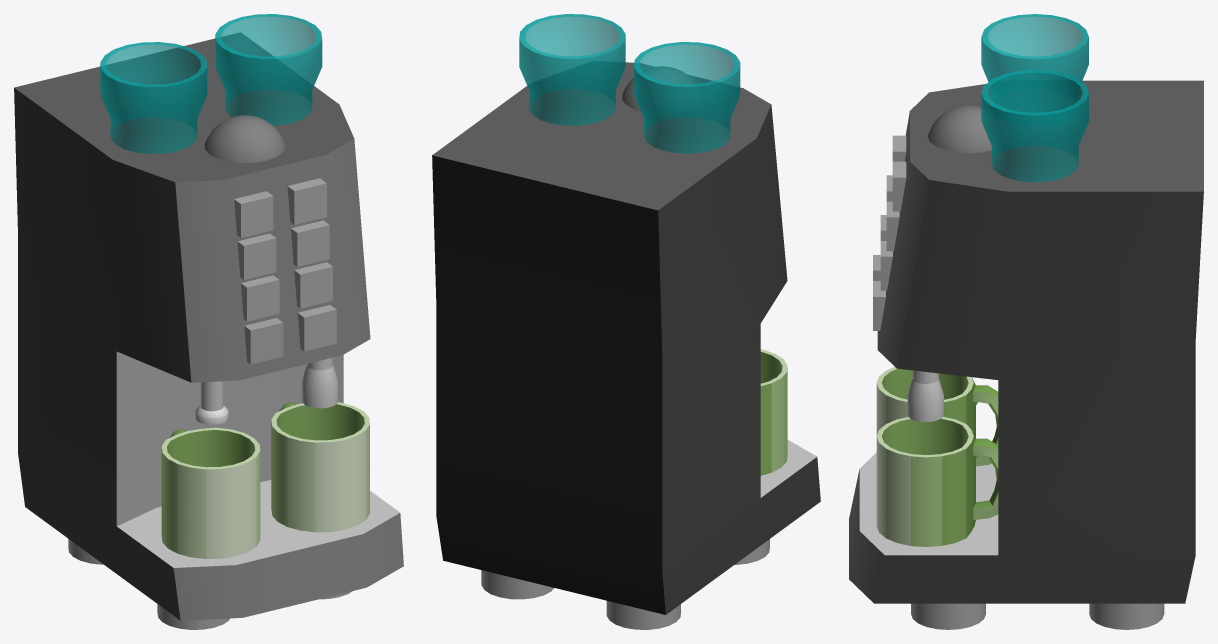
The model's file is coffemachineextra.fbx.
3 views of the same model, side by side, from view 1: azimuth 30°, elevation 25°; view 2: azimuth 150°, elevation 25°; view 3: azimuth 270°, elevation 25° (orthographic).
Parts seen in each view (by area): view 1: pCube1, cup2:pCylinder1, pCylinder1, pCylinder9, pCylinder10, pasted__pCube2 (×3), pasted__pasted__pCube2 (×2), pSphere1, pCylinder3, pasted__pCube3, pasted__pasted__pCube3, pCube2 (+2 smaller); view 2: pCube1, pCylinder10, pCylinder9, cup2:pCylinder1, pCylinder7, pCylinder6, pSphere1; view 3: pCube1, pCylinder1, pCylinder10, pCylinder9, cup2:pCylinder1, pSphere1, pCylinder6, pCylinder5, pCylinder3, pasted__pasted__pCube2 (×2), pasted__pasted__pCube3, pasted__pCube2.
Boxes of the visible parts, left/top/right/bottom form: pCube1: left=14, top=32, right=403, bottom=620; cup2:pCylinder1: left=161, top=427, right=260, bottom=558; pCylinder1: left=271, top=402, right=369, bottom=532; pCylinder9: left=100, top=42, right=207, bottom=153; pCylinder10: left=215, top=14, right=322, bottom=125; pasted__pCube2 (×3): left=237, top=233, right=336, bottom=351; pasted__pasted__pCube2 (×2): left=291, top=220, right=332, bottom=308; pSphere1: left=204, top=115, right=285, bottom=162; pCylinder3: left=302, top=357, right=337, bottom=408; pasted__pCube3: left=234, top=191, right=273, bottom=237; pasted__pasted__pCube3: left=287, top=178, right=326, bottom=224; pCube2: left=244, top=318, right=283, bottom=364; pCube1: left=432, top=62, right=820, bottom=614; pCylinder10: left=519, top=14, right=625, bottom=125; pCylinder9: left=634, top=42, right=740, bottom=153; cup2:pCylinder1: left=760, top=349, right=787, bottom=475; pCylinder7: left=606, top=601, right=680, bottom=629; pCylinder6: left=481, top=570, right=553, bottom=599; pSphere1: left=622, top=66, right=695, bottom=111; pCube1: left=849, top=80, right=1203, bottom=603; pCylinder1: left=876, top=417, right=998, bottom=546; pCylinder10: left=981, top=70, right=1088, bottom=182; pCylinder9: left=981, top=14, right=1088, bottom=112; cup2:pCylinder1: left=876, top=367, right=998, bottom=466; pSphere1: left=928, top=105, right=991, bottom=153; pCylinder6: left=1089, top=603, right=1164, bottom=629; pCylinder5: left=911, top=603, right=985, bottom=629; pCylinder3: left=907, top=370, right=943, bottom=421; pasted__pasted__pCube2 (×2): left=880, top=201, right=899, bottom=290; pasted__pasted__pCube3: left=892, top=161, right=906, bottom=211; pasted__pCube2: left=873, top=281, right=885, bottom=330.
Size of the model in its own units: 6.98 by 15.21 by 9.46.
4 materials, 2 textured.
